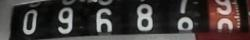digits: (95, 8, 112, 36), (136, 3, 153, 30), (57, 7, 73, 33), (22, 9, 37, 34), (177, 17, 192, 36), (217, 19, 233, 35)
